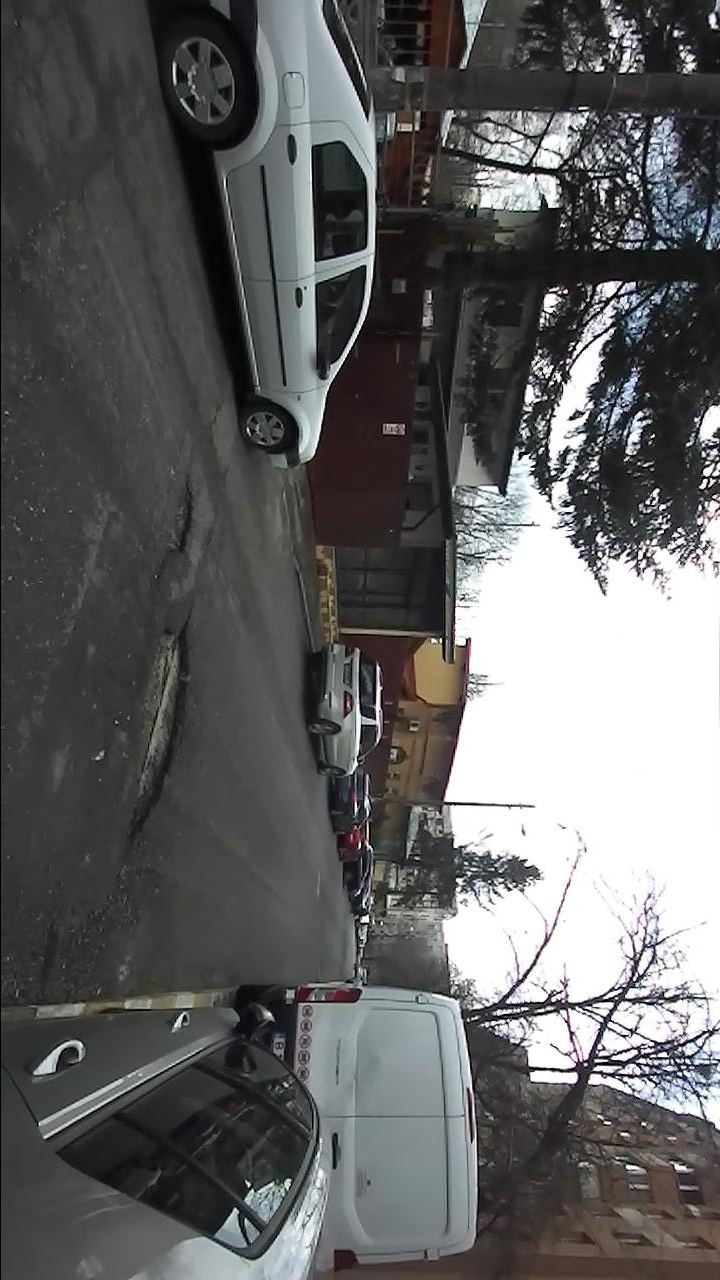pothole: (119, 611, 197, 858), (159, 475, 201, 572)
